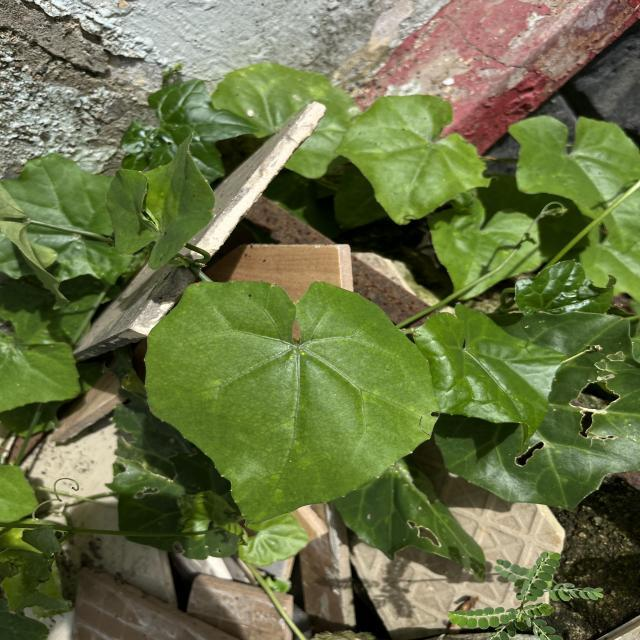Coccinia grandis: (141, 278, 445, 530)
